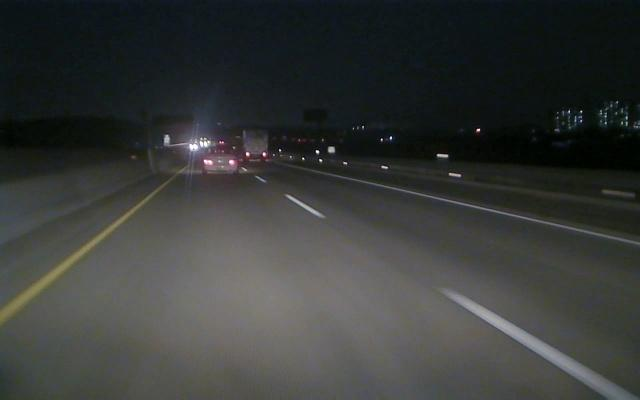lane: (285, 194, 635, 398), (322, 173, 640, 248), (3, 194, 151, 324)
